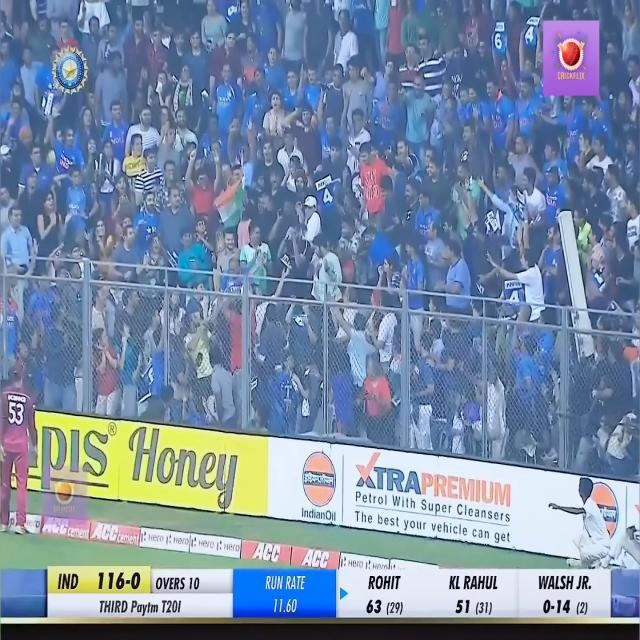fully_visible: (130, 594, 158, 621)
partially_visible: (501, 279, 526, 289), (312, 178, 336, 188)
